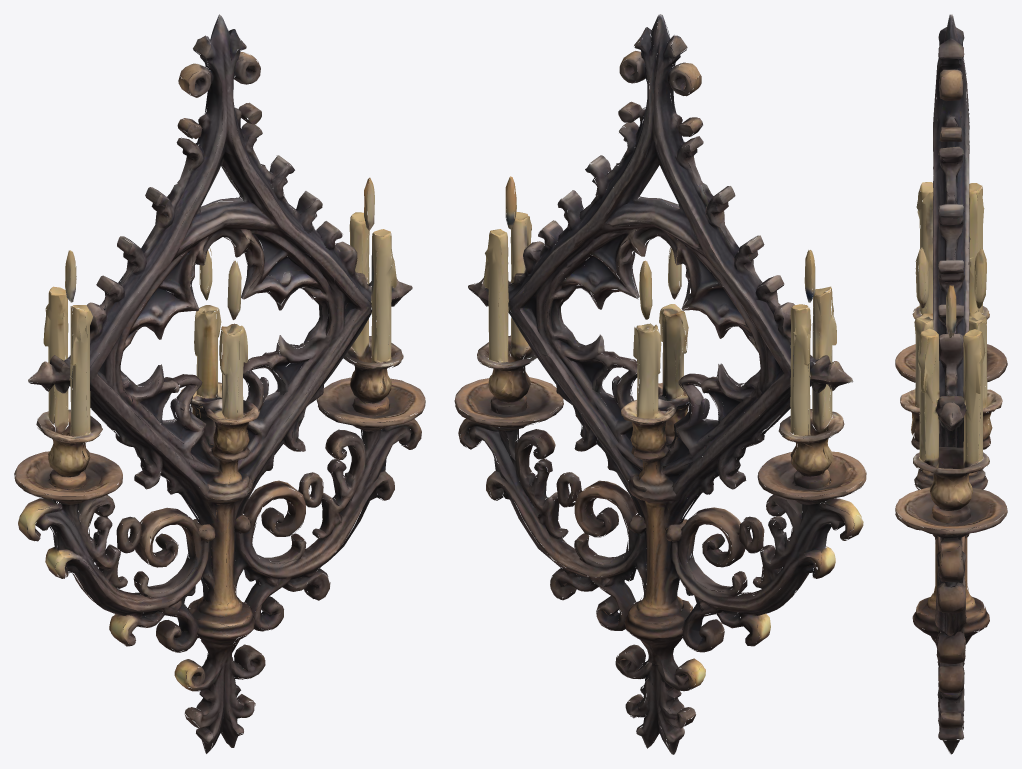
The model's file is sconce.glb.
3 renders of one model, left to right at view 1: azimuth 30°, elevation 25°; view 2: azimuth 150°, elevation 25°; view 3: azimuth 270°, elevation 25°, orthographic.
Parts seen in each view (by area): view 1: sconce; view 2: sconce; view 3: sconce.
Boxes of the visible parts, x1,y1,x2,y2 form: sconce: (14,14,425,753); sconce: (454,14,866,754); sconce: (895,14,1007,754).
Bounding box in the file's own units: 0.5652 × 1 × 0.1393.
Materials: 1 (1 with a texture image).
